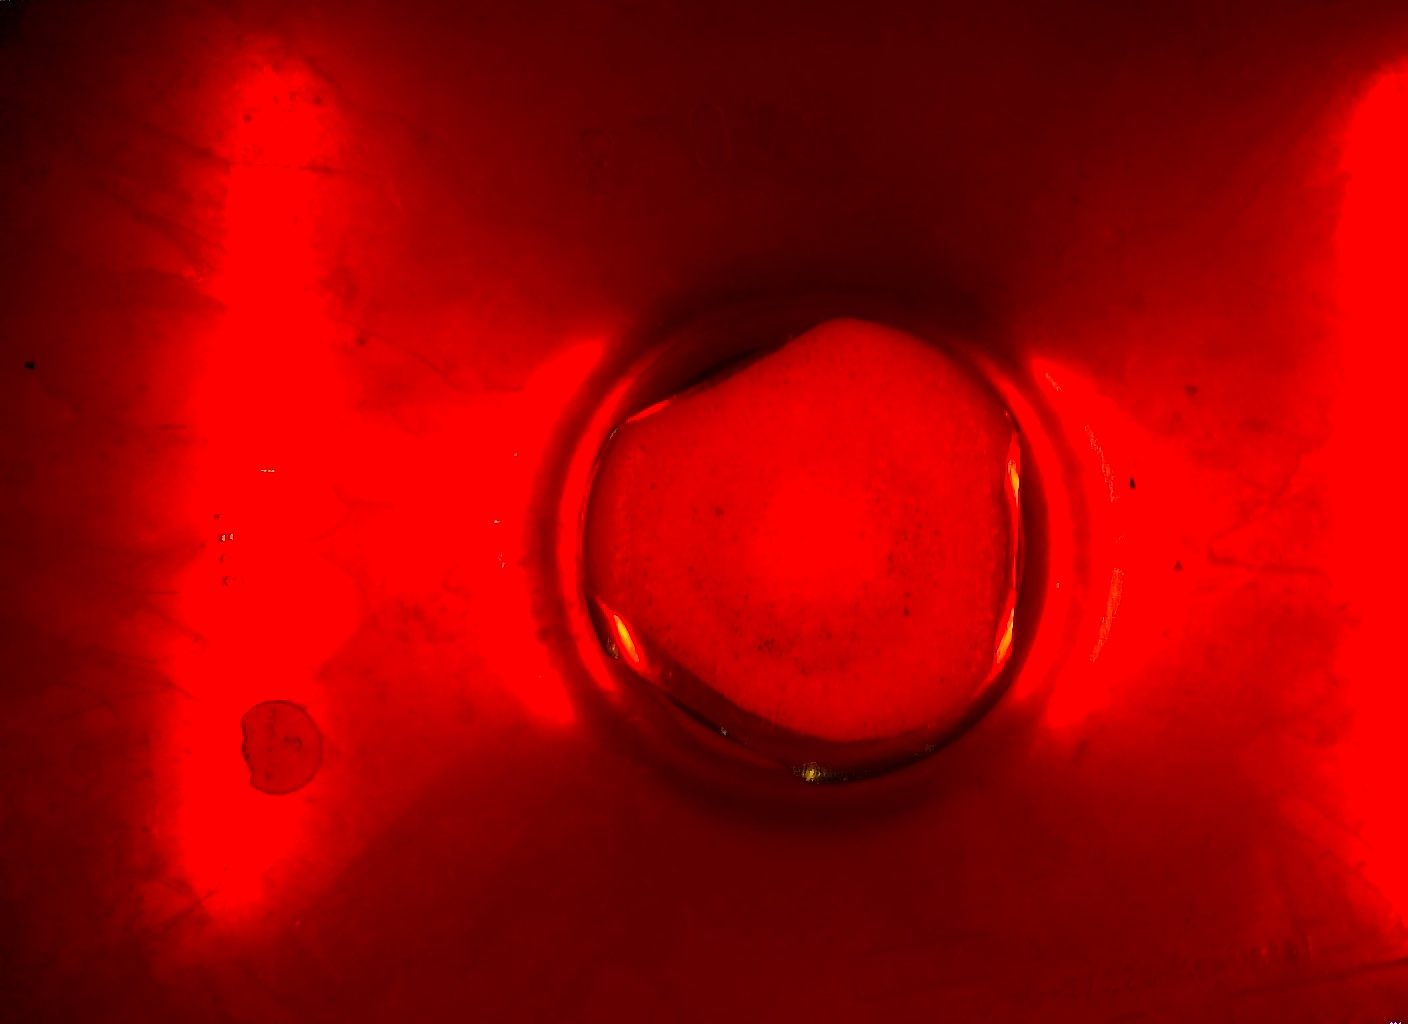shapka: (570, 308, 1028, 743)
